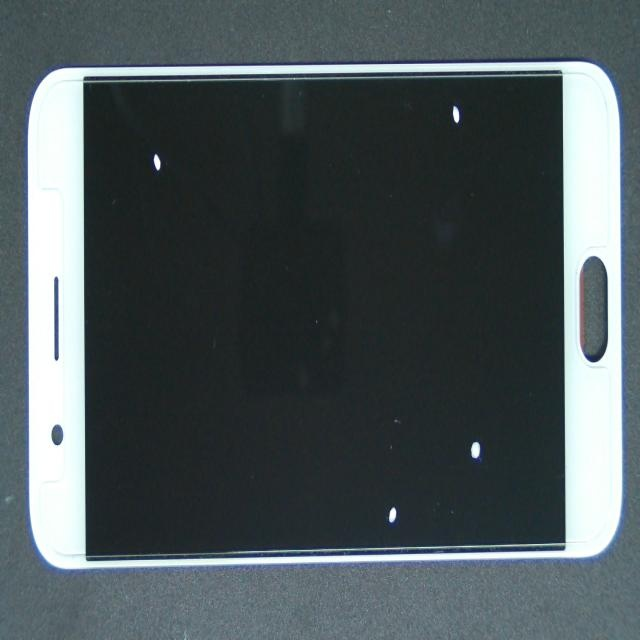stain: (212, 204, 582, 640), (248, 254, 640, 640), (225, 86, 640, 195), (107, 102, 239, 234)
